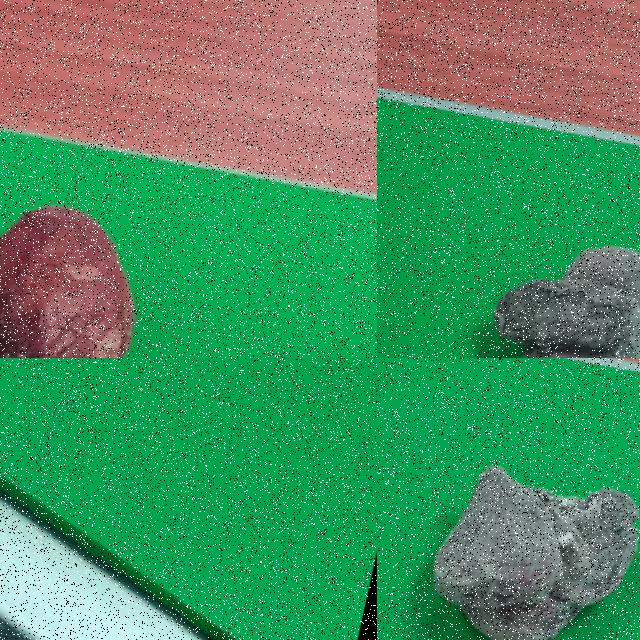Agglomerated_cocoabeans: (377, 377, 639, 639), (416, 172, 639, 357)
Fine_cocoabeans: (0, 143, 211, 357)
